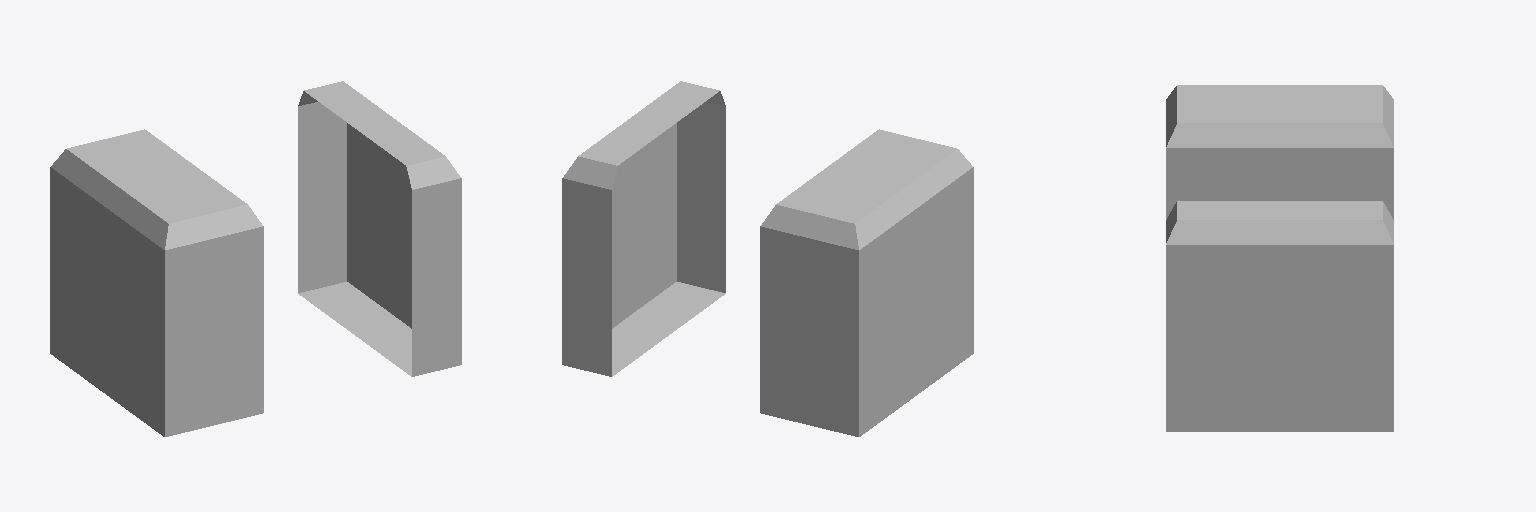
Rendered from normal_tester.obj.
3 renders of one model, left to right at view 1: azimuth 30°, elevation 25°; view 2: azimuth 150°, elevation 25°; view 3: azimuth 270°, elevation 25°, orthographic.
Parts seen in each view (by area): view 1: Cube.002; view 2: Cube.002; view 3: Cube.002.
Part boxes in pixels (x1,y1,x2,y2): Cube.002: (50, 81, 461, 436); Cube.002: (562, 81, 973, 436); Cube.002: (1166, 85, 1393, 431).
Bounding box in the file's own units: 3 × 2 × 2.